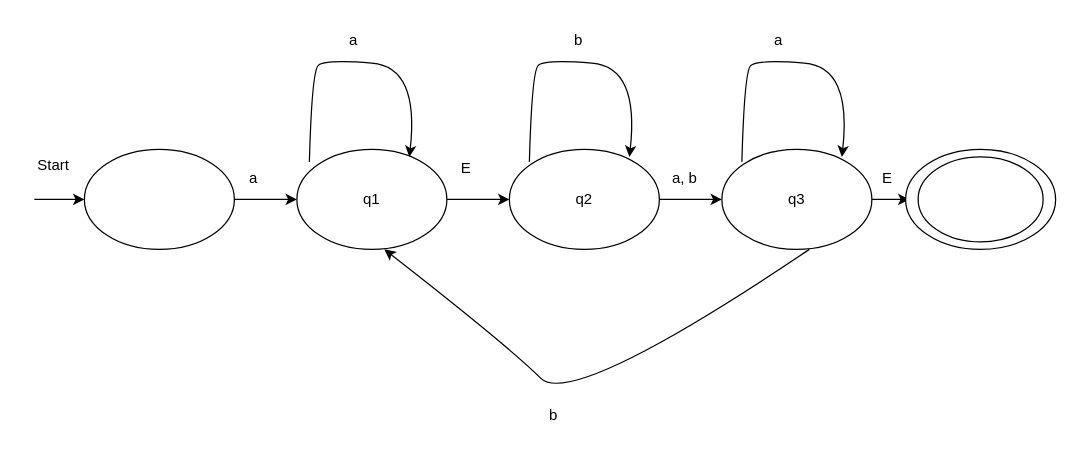
Some shapes in this 1078 by 455 pixel diagram are drawn without their labels. The centre of each missing label's shape, as x and y in pixels:
"q0" goes at point (158, 198).
"q4" goes at point (980, 199).
